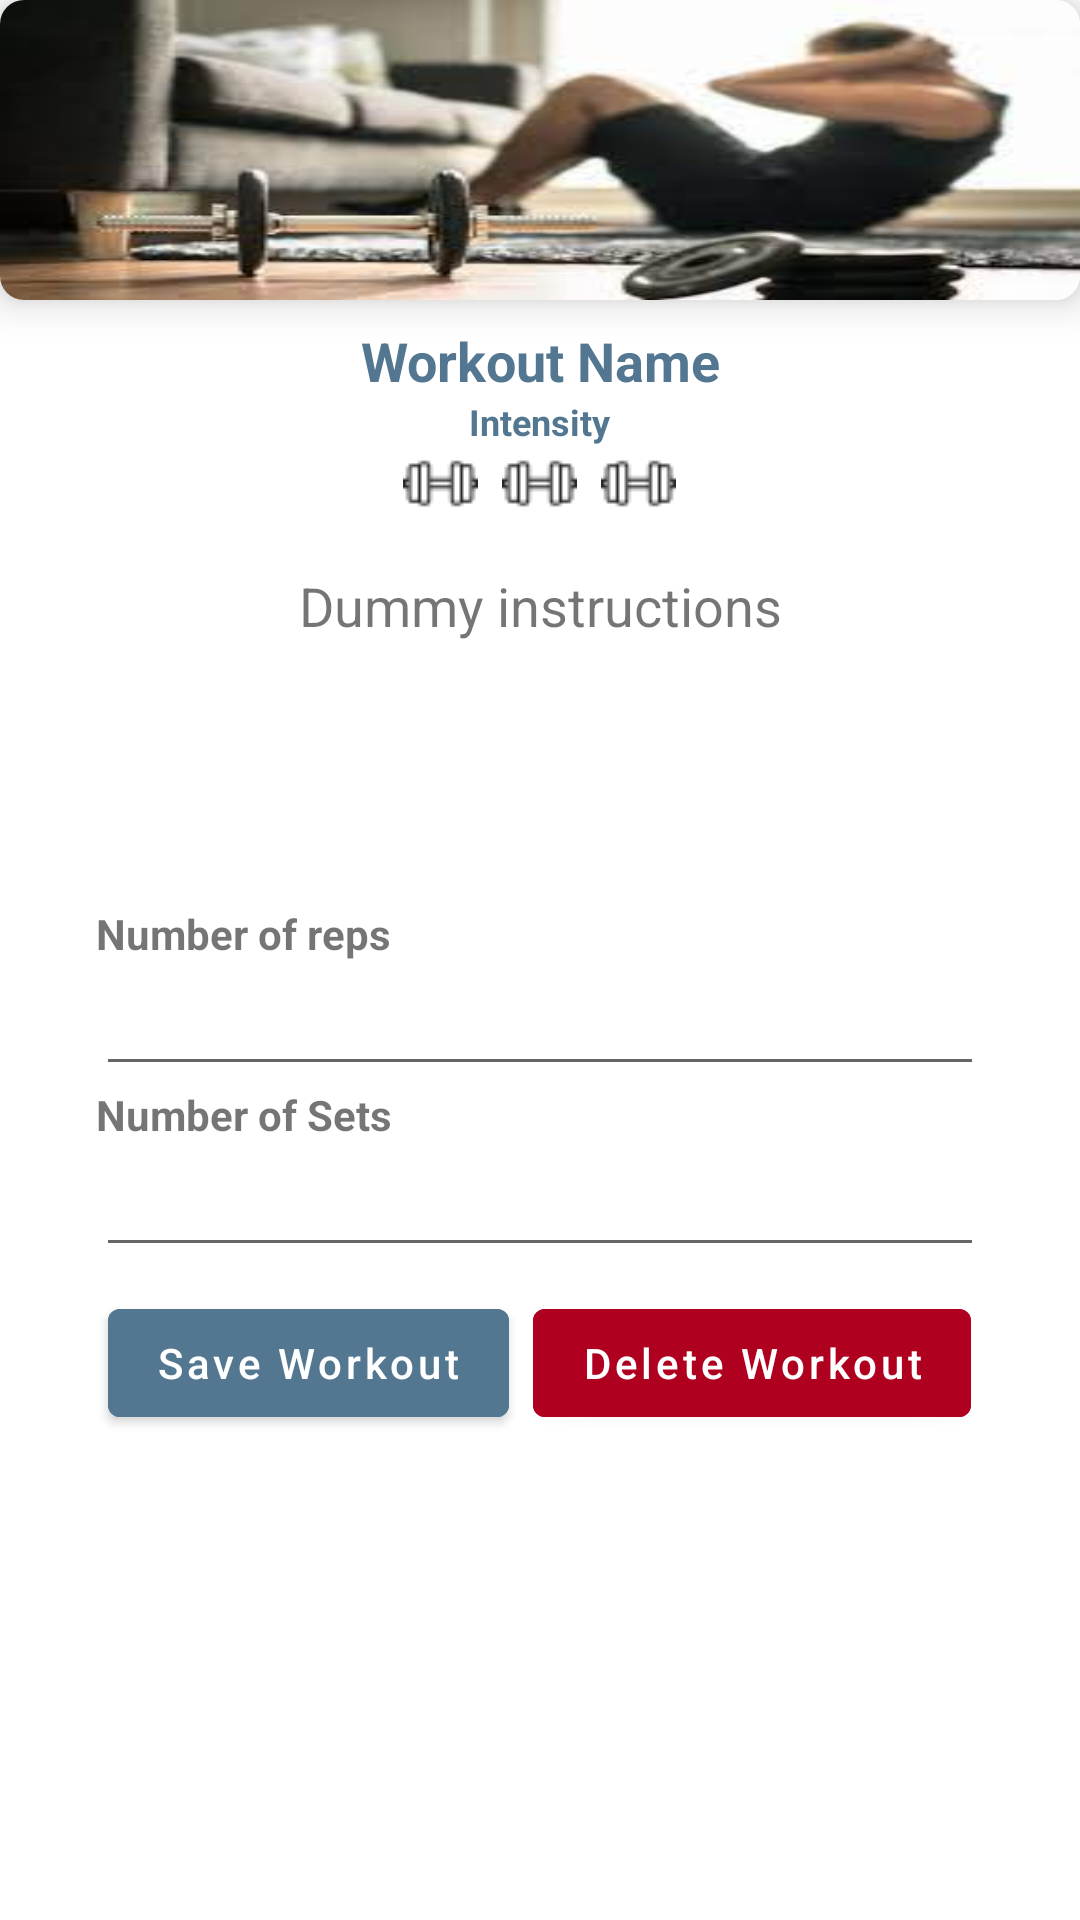

Where to tap for icons on this 1080 × 1920 app screen, as (x,y):
dumbell: (440,483), (539,483), (638,483)
